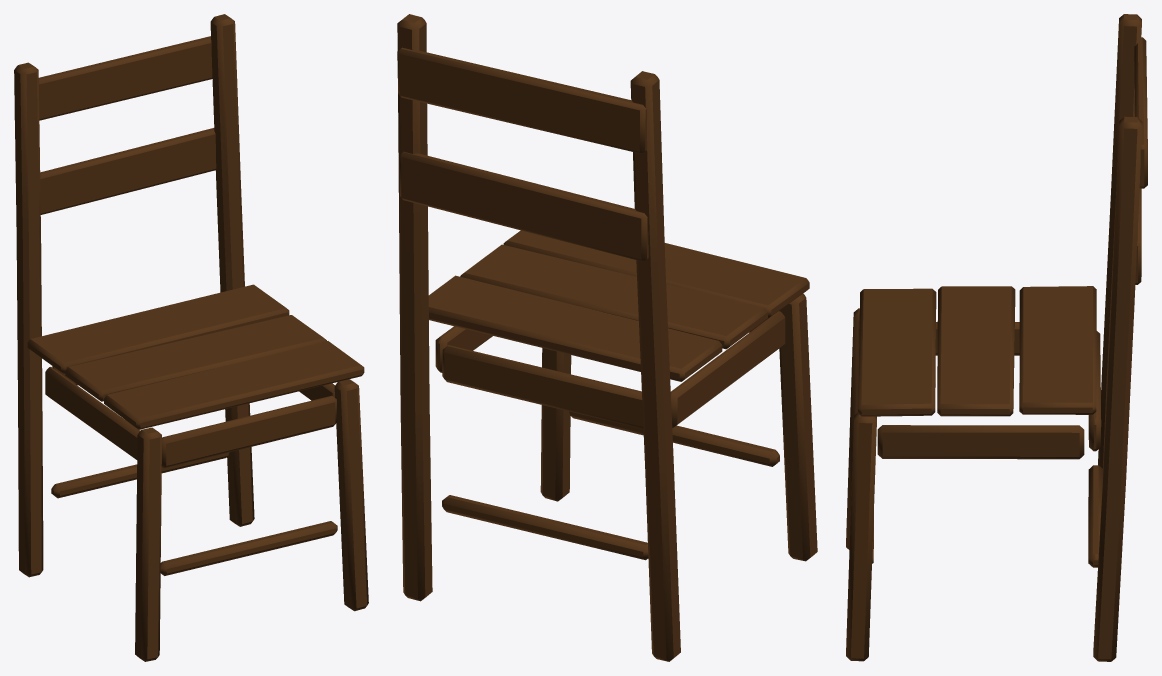
Rendered from stuhl.glb.
The picture shows the model from 3 angles, left to right: view 1: azimuth 30°, elevation 25°; view 2: azimuth 150°, elevation 25°; view 3: azimuth 270°, elevation 25°; orthographic projection. The views are drawn at different scales.
Parts seen in each view (by area): view 1: stuhl; view 2: stuhl; view 3: stuhl.
Part boxes in pixels (x1,y1,x2,y2): stuhl: [14, 14, 368, 661]; stuhl: [397, 14, 817, 661]; stuhl: [846, 14, 1147, 661].
Bounding box in the file's own units: 0.4722 × 0.9827 × 0.5015.
